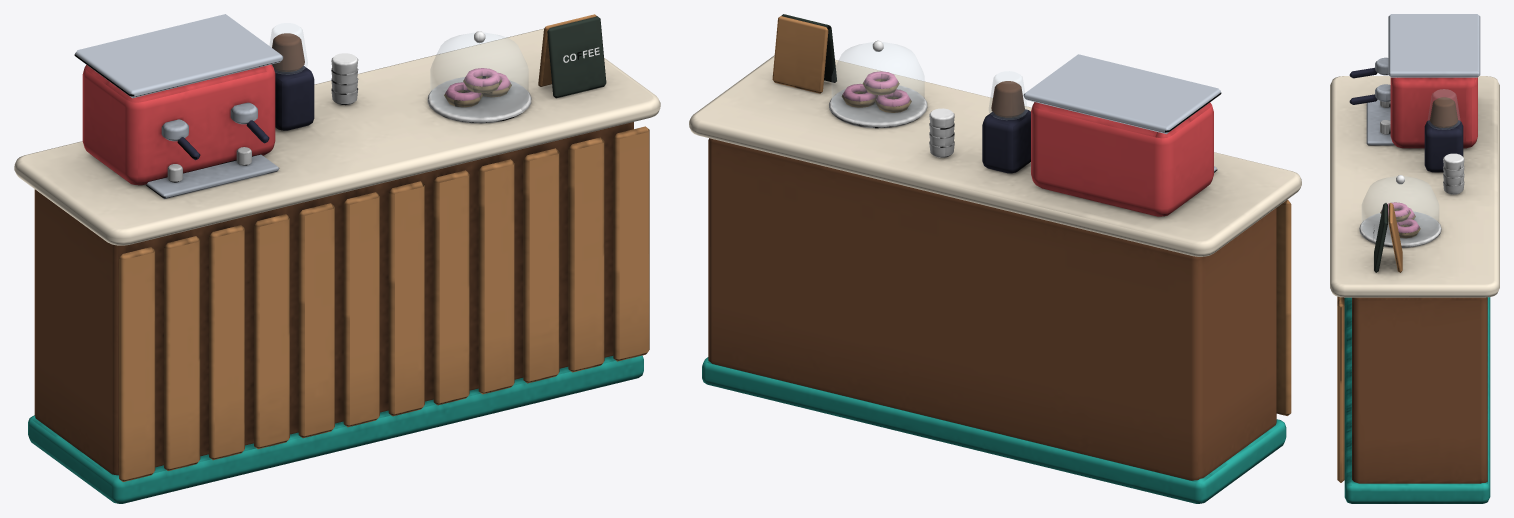
File: coffee_bar.glb
3 views of the same model, side by side, from view 1: azimuth 30°, elevation 25°; view 2: azimuth 150°, elevation 25°; view 3: azimuth 270°, elevation 25° (orthographic). The views are drawn at different scales.
Parts seen in each view (by area): view 1: coffee_bar; view 2: coffee_bar; view 3: coffee_bar.
Boxes of the visible parts, box(x1,y1,x2,y2) form: coffee_bar: box(14, 14, 660, 503); coffee_bar: box(689, 14, 1301, 503); coffee_bar: box(1330, 14, 1499, 503).
Bounding box in the file's own units: 2.08 × 1.39 × 0.7.
Materials: 14 (13 with a texture image).
